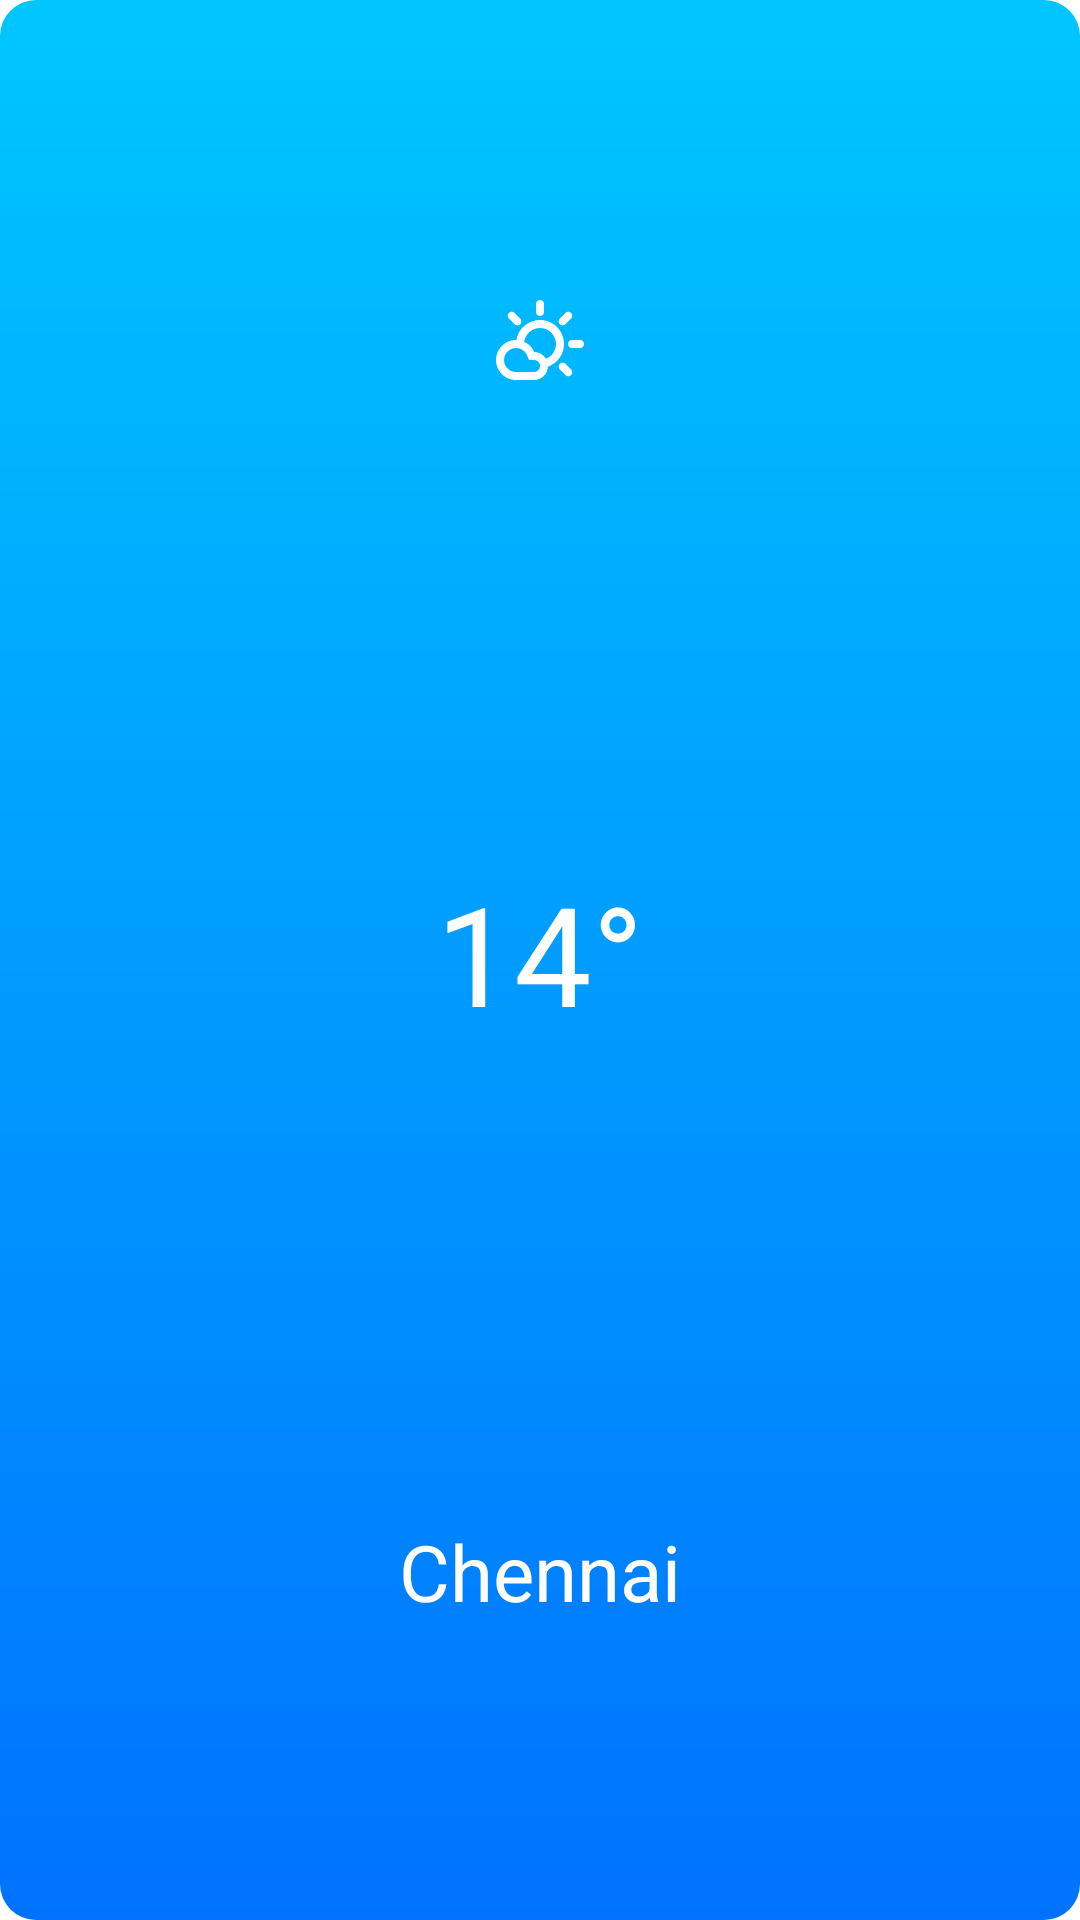

Named icons in this screenshot (1080px×1920px) and their centers, (x,y):
Widget Icon: (540,340)
